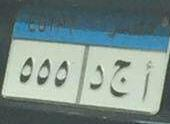5: (34, 57, 52, 89), (19, 54, 33, 85), (54, 60, 70, 87)
alif: (136, 58, 156, 102)
daal: (86, 63, 106, 93)
jeem: (106, 59, 134, 101)
